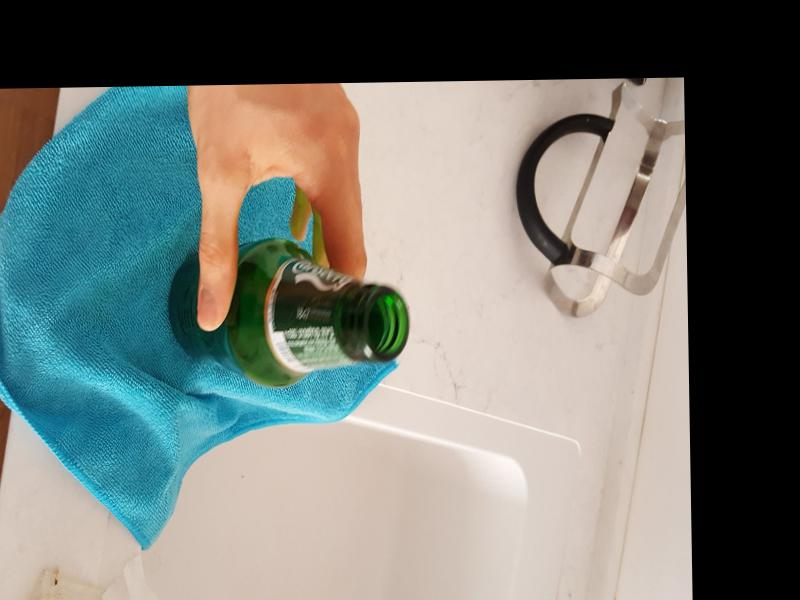Beer: (165, 247, 406, 387)
